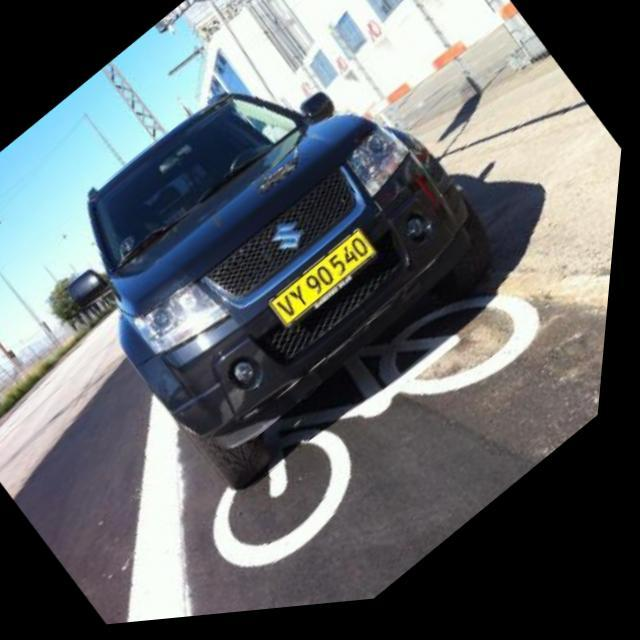license_plate: (268, 230, 389, 342)
